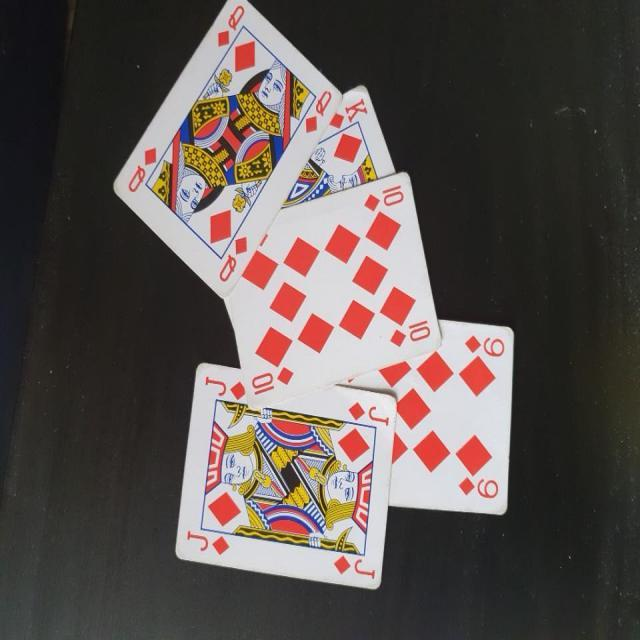10 of diamonds: (213, 169, 444, 411)
9 of diamonds: (334, 322, 514, 518)
jack of diamonds: (174, 362, 398, 592)
king of diamonds: (278, 84, 396, 222)
queen of diamonds: (110, 1, 345, 302)
